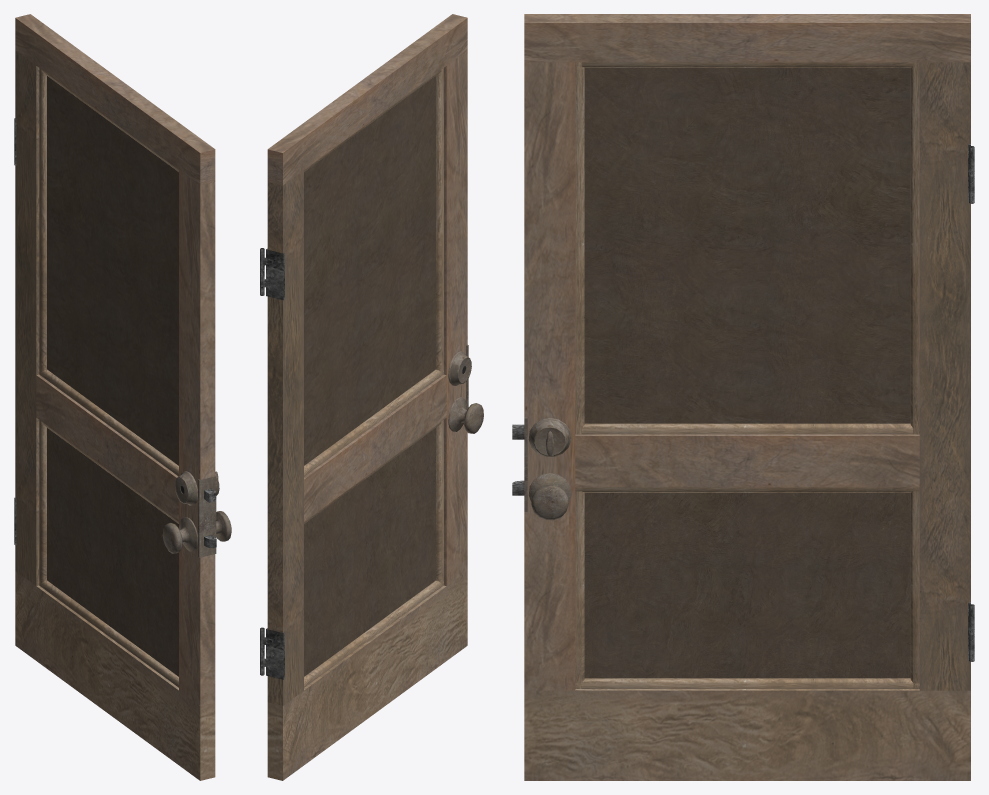
Rendered from WoodDoorA.fbx.
The picture shows the model from 3 angles, left to right: view 1: azimuth 30°, elevation 25°; view 2: azimuth 150°, elevation 25°; view 3: azimuth 270°, elevation 25°; orthographic projection. The views are drawn at different scales.
Visible parts, largest first — view 1: WoodDoorA, Lock, Knob; view 2: WoodDoorA, Knob, Lock; view 3: WoodDoorA, Knob, Lock.
Part boxes in pixels (x1,y1,x2,y2): WoodDoorA: (14, 14, 215, 780); Lock: (175, 471, 219, 557); Knob: (162, 511, 231, 553); WoodDoorA: (260, 14, 467, 780); Knob: (448, 397, 483, 433); Lock: (448, 345, 471, 409); WoodDoorA: (524, 14, 974, 780); Knob: (528, 473, 571, 520); Lock: (524, 417, 571, 511).
Size of the model in its own units: 22.53 by 236 by 130.
